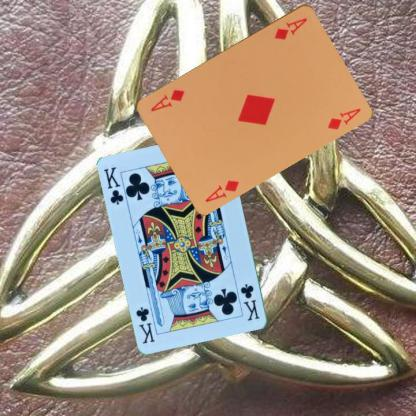Ad: (272, 14, 308, 41), (203, 177, 240, 203)
Kc: (102, 164, 125, 206), (238, 282, 261, 322)
